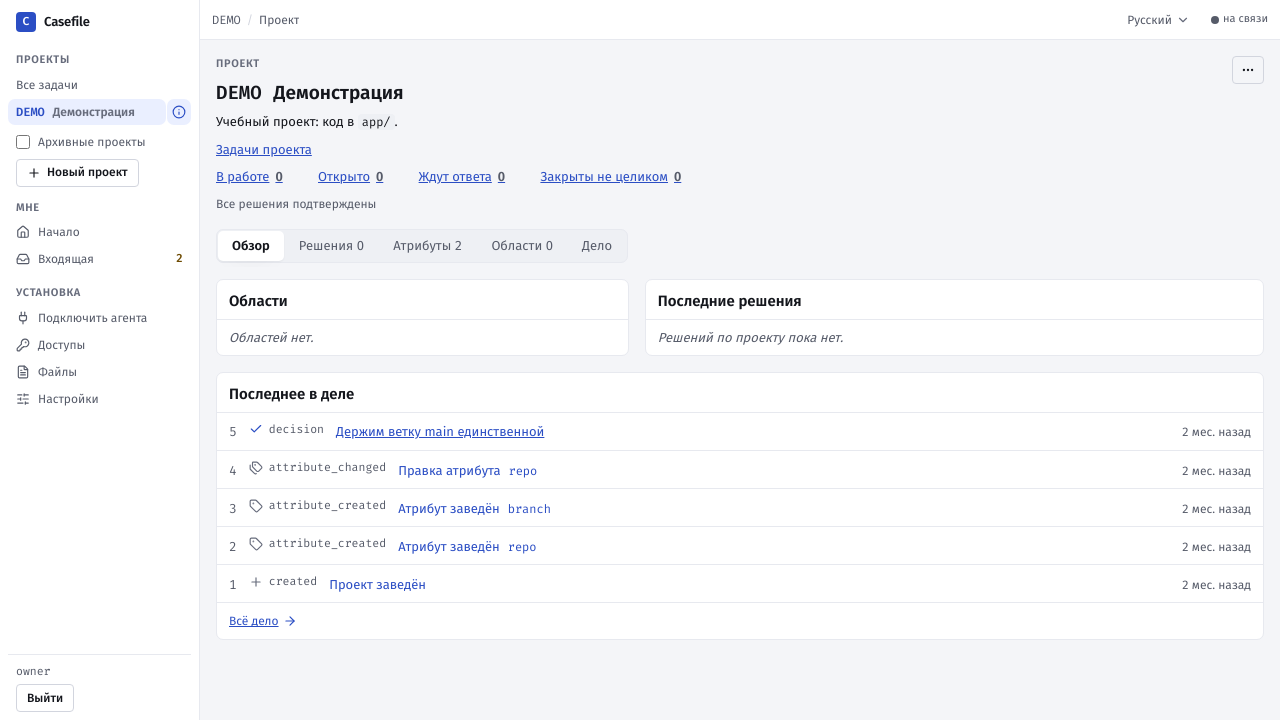
Scenario: вкладка «Обзор» › пять последних записей дела, сверху новое; нажатие открывает «Дело» с раскрытой записью
Click the link "Держим ветку main единственной" at (440, 432), box [336,424,544,439]
(page scrolled)
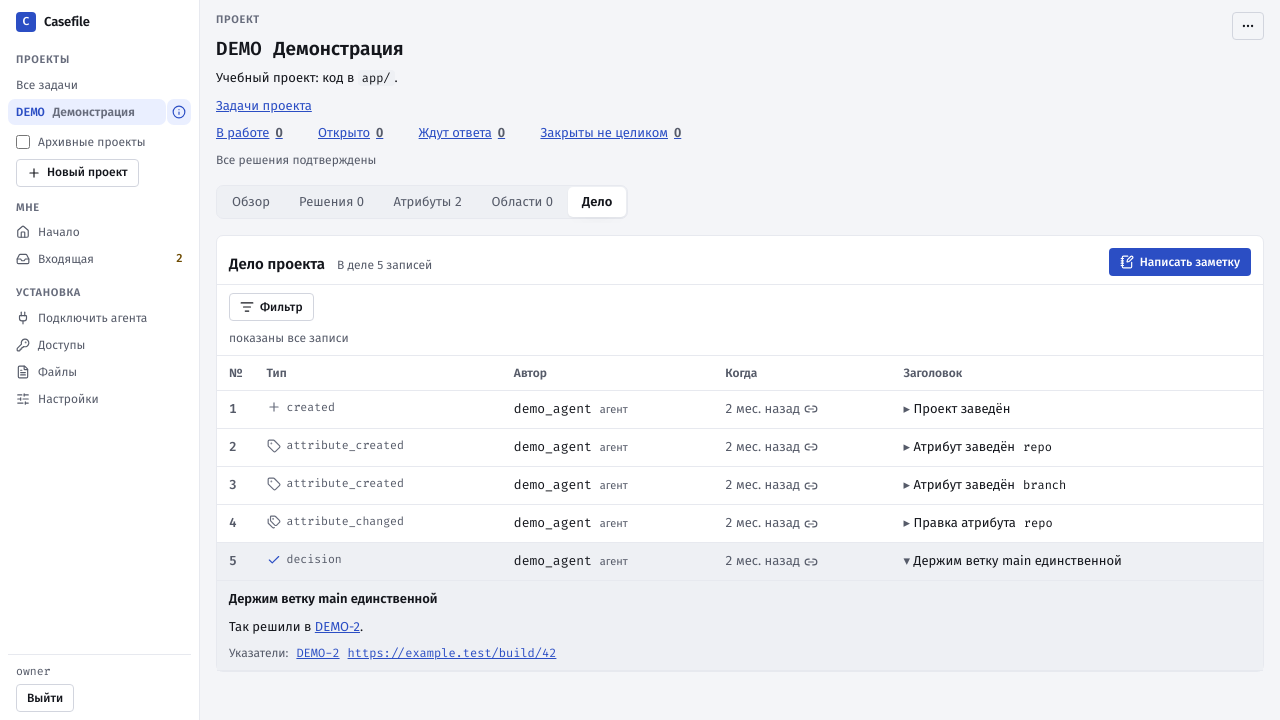
Check: the text "Так решили в DEMO-2 ." is shown, box [229,619,363,634]
